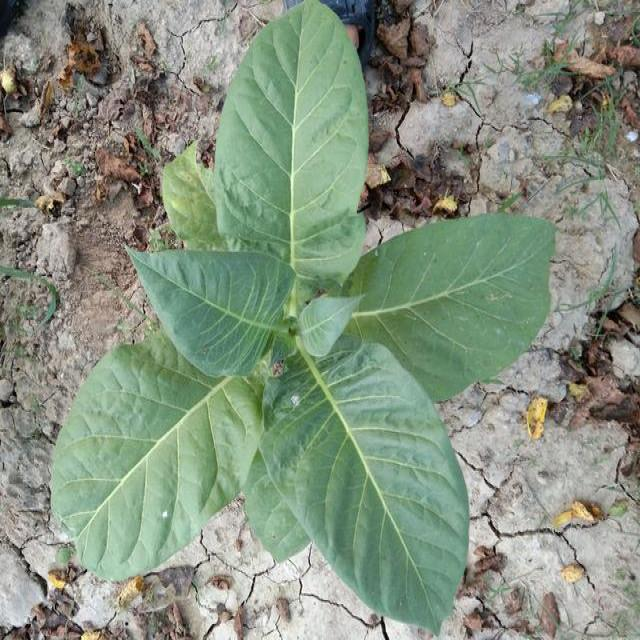crop: (56, 3, 556, 640)
